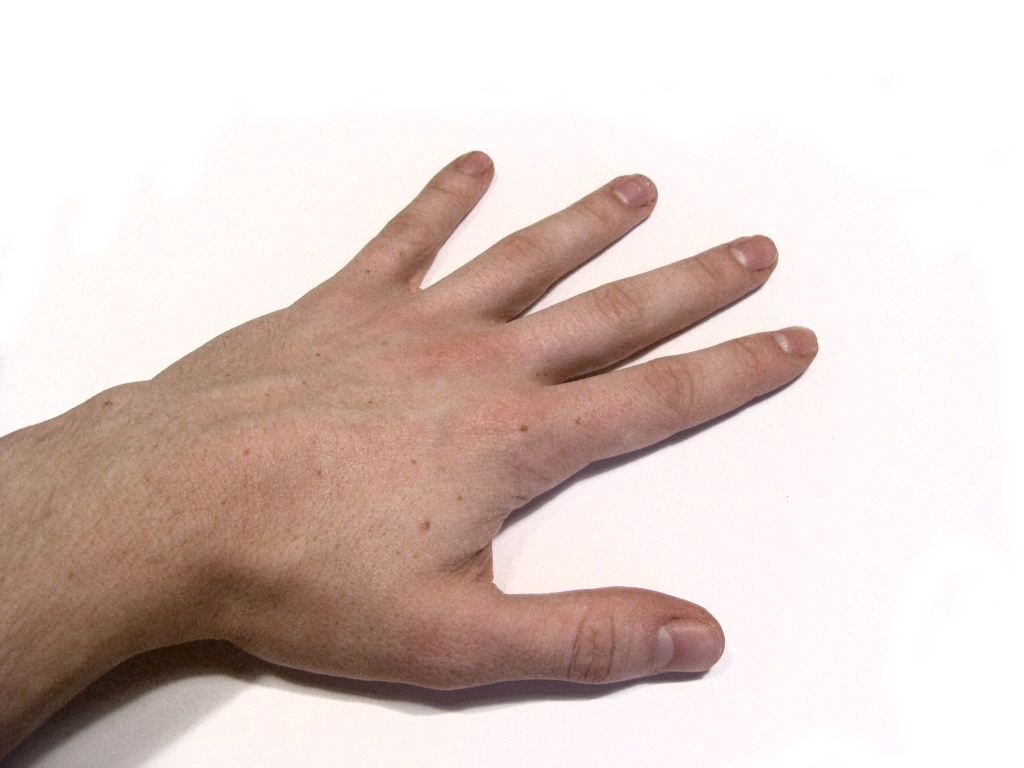finger: (481, 233, 790, 378), (505, 321, 843, 444), (413, 166, 663, 326), (322, 141, 499, 306)
